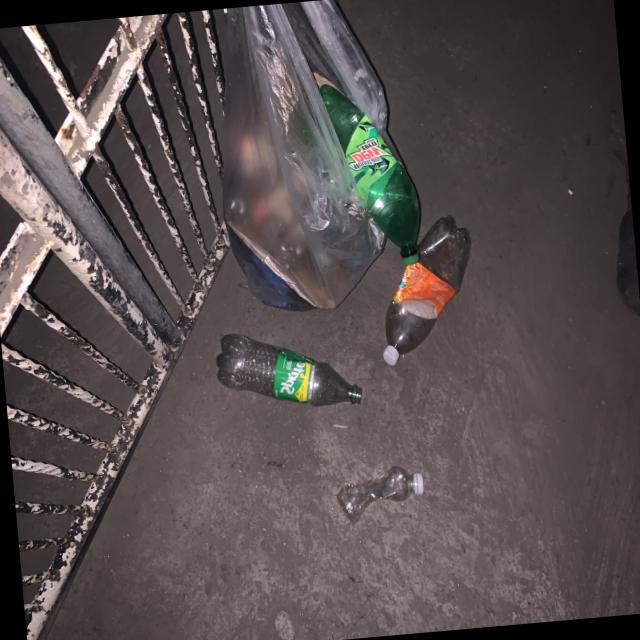Bottle: (383, 214, 470, 364), (216, 332, 361, 405), (336, 464, 425, 522)
